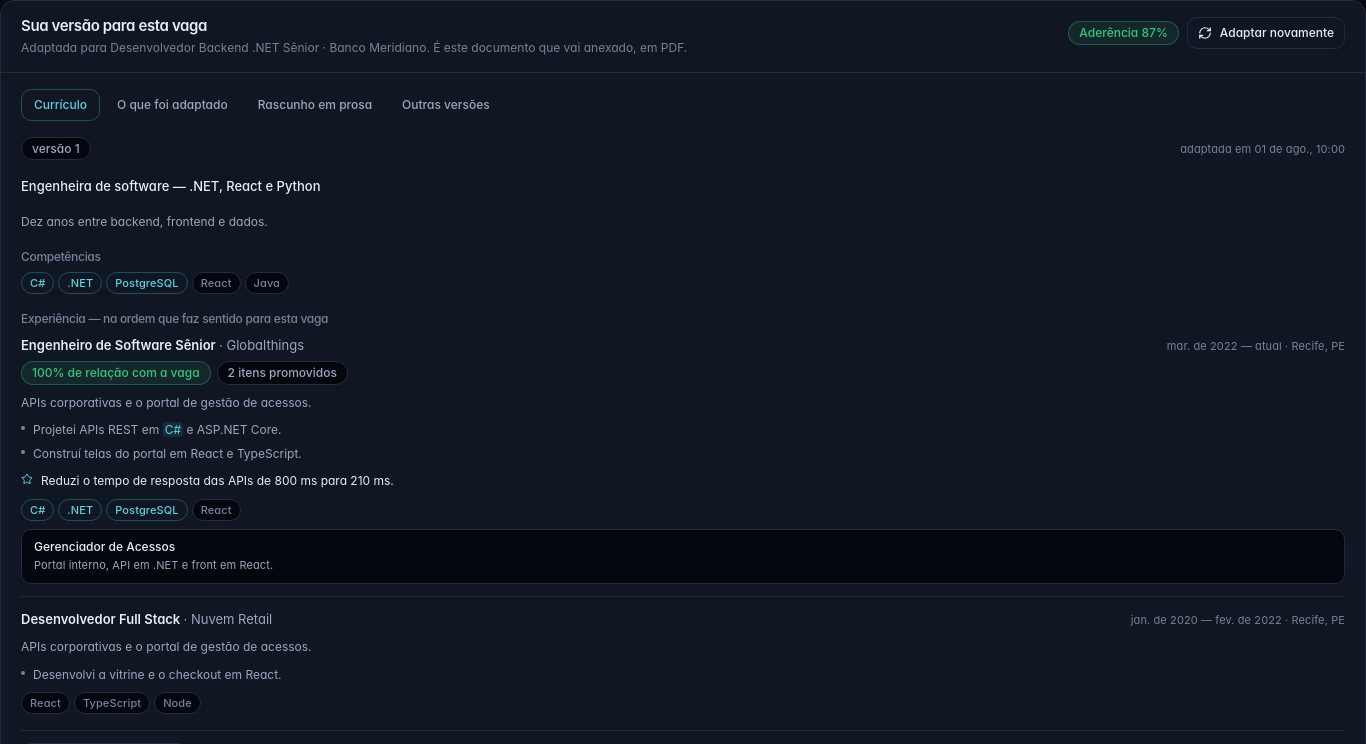
Test case: ApplicationResumePanel change report › keeps them when the master moved on and the comparison is not meaningful
Expected: the text "versão 1" is shown, [21,137,91,160]
Click the tab "O que foi adaptado" at (172, 105), box [104,89,241,121]
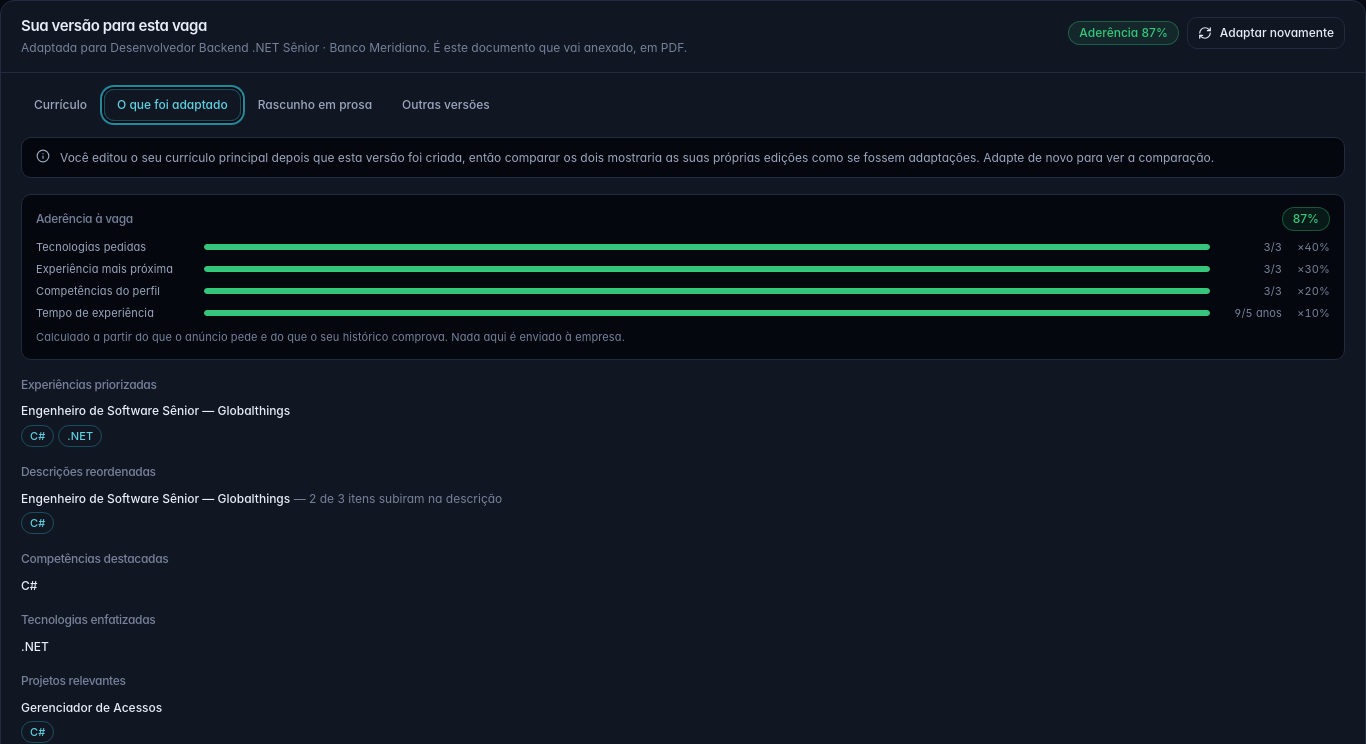
Expected: the heading "Experiências priorizadas" is shown, [21,377,157,392]
